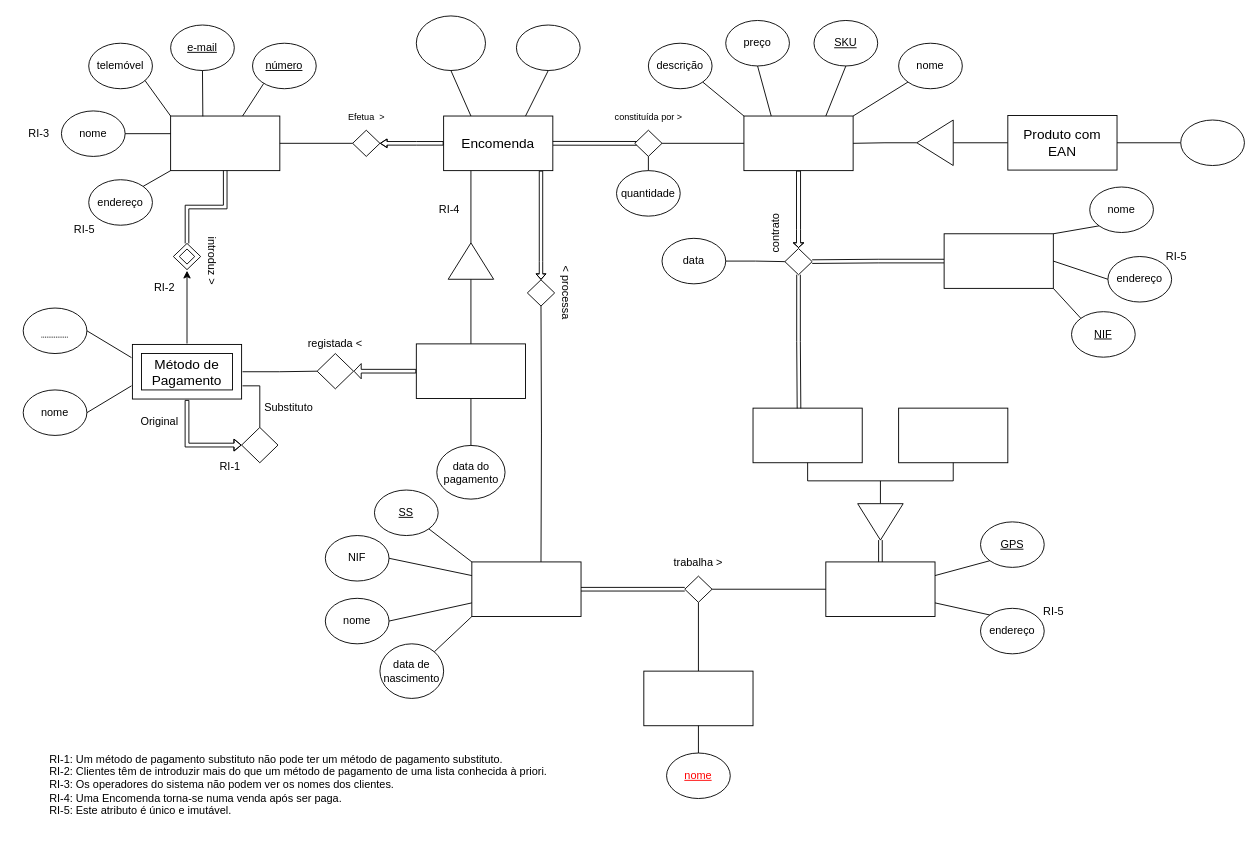
Some shapes in this 1260 by 842 pixel diagram are drawn without their labels. The shapes that lost their labels are listed below. From the top down, each one's centre as x and y in pixels, then its label:
At point (450, 43): "nº de encomenda".
At point (548, 47): "data da encomenda".
At point (225, 143): "Cliente".
At point (798, 143): "Produto".
At point (1212, 142): "EAN".
At point (998, 260): "Fornecedor".
At point (54, 330): "token".
At point (470, 370): "Venda".
At point (807, 435): "Armazém".
At point (953, 435): "Escritório".
At point (526, 589): "Empregado".
At point (880, 589): "Local de Trabalho".
At point (698, 698): "Departamento".
